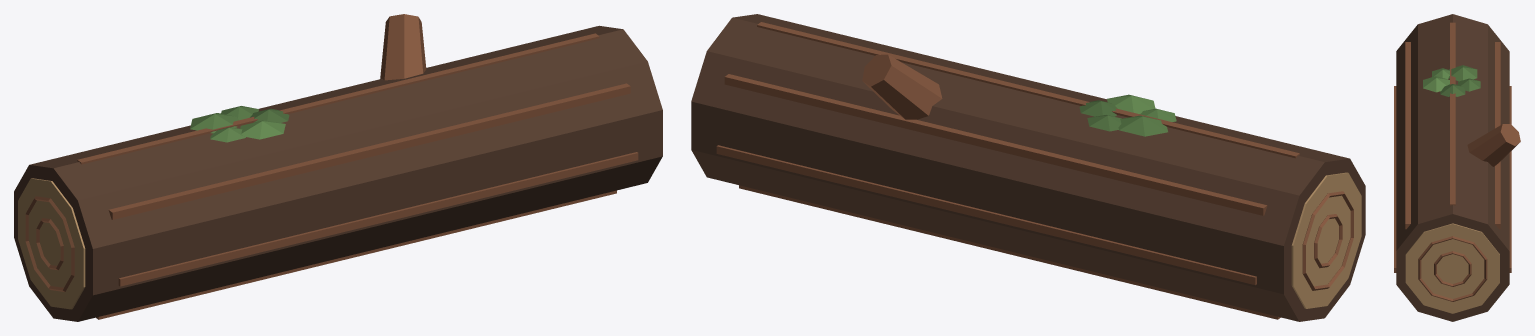
File: forest_log_big.glb
The picture shows the model from 3 angles, left to right: view 1: azimuth 30°, elevation 25°; view 2: azimuth 150°, elevation 25°; view 3: azimuth 270°, elevation 25°; orthographic projection. The views are drawn at different scales.
Parts seen in each view (by area): view 1: geometry; view 2: geometry; view 3: geometry.
Boxes of the visible parts, x1=… form: geometry: x1=14, y1=14, x2=662, y2=321; geometry: x1=691, y1=14, x2=1365, y2=321; geometry: x1=1394, y1=14, x2=1520, y2=321.
Bounding box in the file's own units: 2.91 × 0.8875 × 0.7658.
